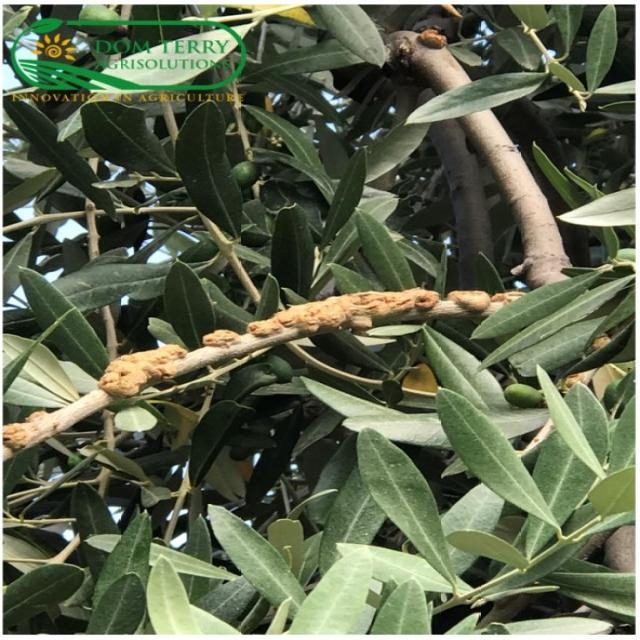Tuberculosis: (246, 288, 440, 337), (98, 344, 188, 397), (4, 411, 49, 452), (448, 291, 490, 314), (203, 329, 240, 348)
